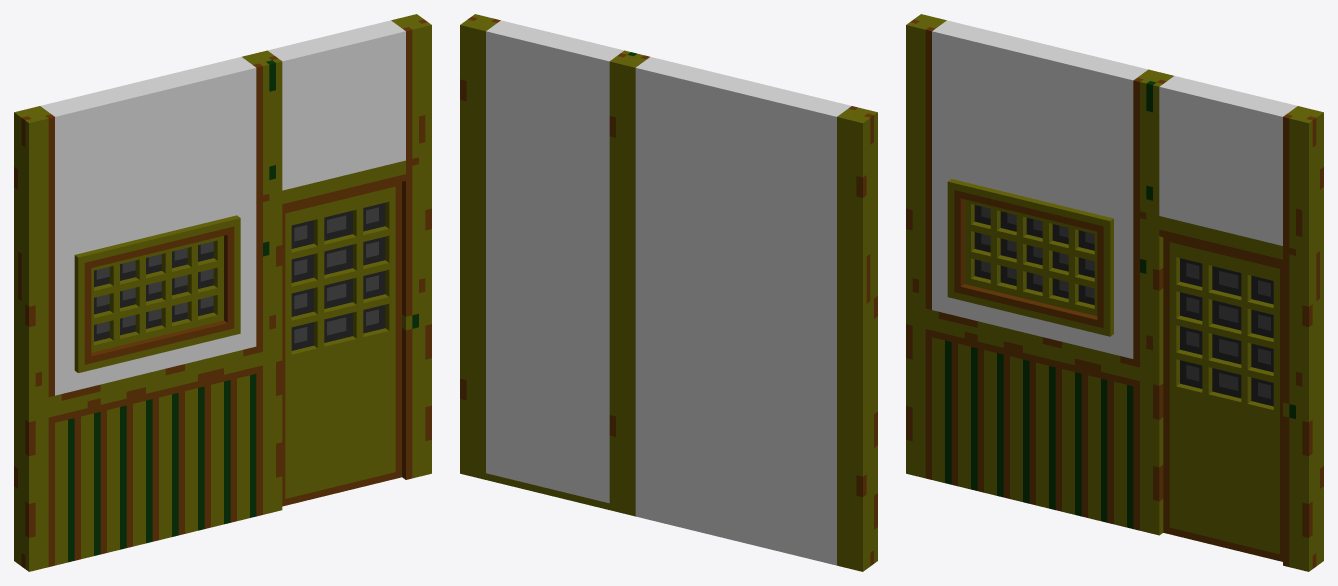
The model's file is classicOne.glb.
3 renders of one model, left to right at view 1: azimuth 30°, elevation 25°; view 2: azimuth 150°, elevation 25°; view 3: azimuth 330°, elevation 25°, orthographic.
Parts seen in each view (by area): view 1: ObjObject; view 2: ObjObject; view 3: ObjObject.
Boxes of the visible parts, x1=… form: ObjObject: x1=14, y1=14, x2=431, y2=571; ObjObject: x1=460, y1=14, x2=877, y2=571; ObjObject: x1=906, y1=14, x2=1323, y2=571.
Bounding box in the file's own units: 6.2 × 6.6 × 0.5.
Materials: 1 (1 with a texture image).
